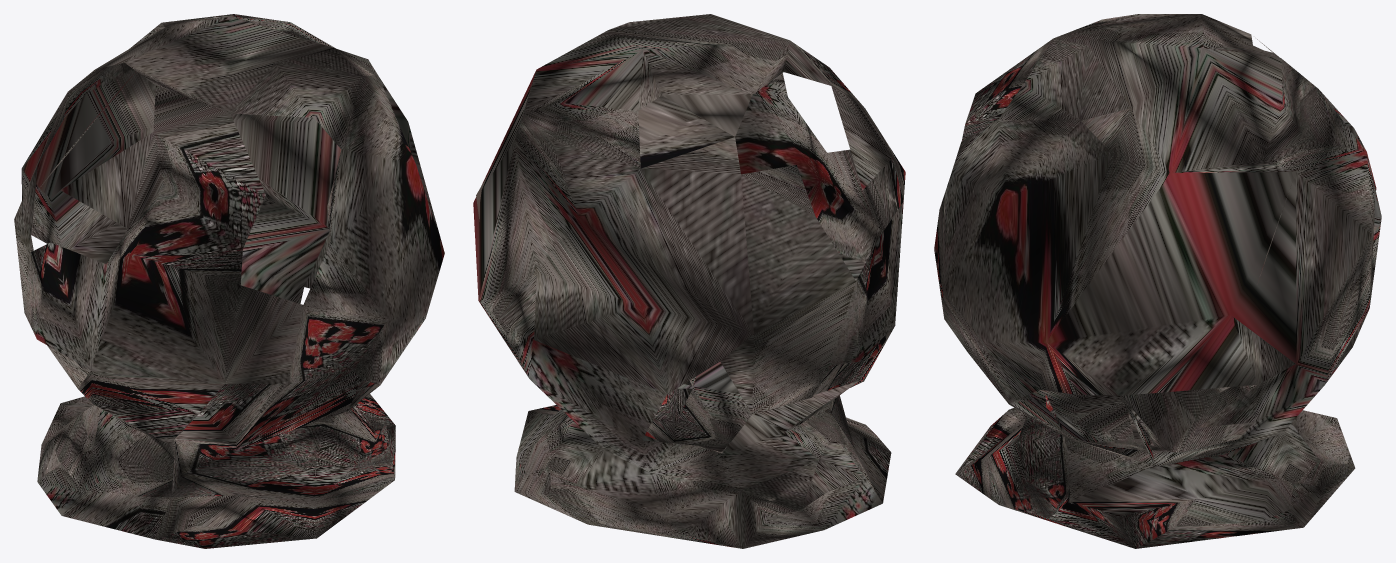
The model's file is bola13.glb.
3 views of the same model, side by side, from view 1: azimuth 30°, elevation 25°; view 2: azimuth 150°, elevation 25°; view 3: azimuth 270°, elevation 25° (orthographic). The views are drawn at different scales.
Parts seen in each view (by area): view 1: bola13; view 2: bola13; view 3: bola13.
Boxes of the visible parts, x1,y1,x2,y2 form: bola13: (14,14,444,548); bola13: (473,14,905,548); bola13: (934,14,1381,548).
Size of the model in its own units: 10.47 by 11.78 by 10.78.
1 material, 1 textured.
